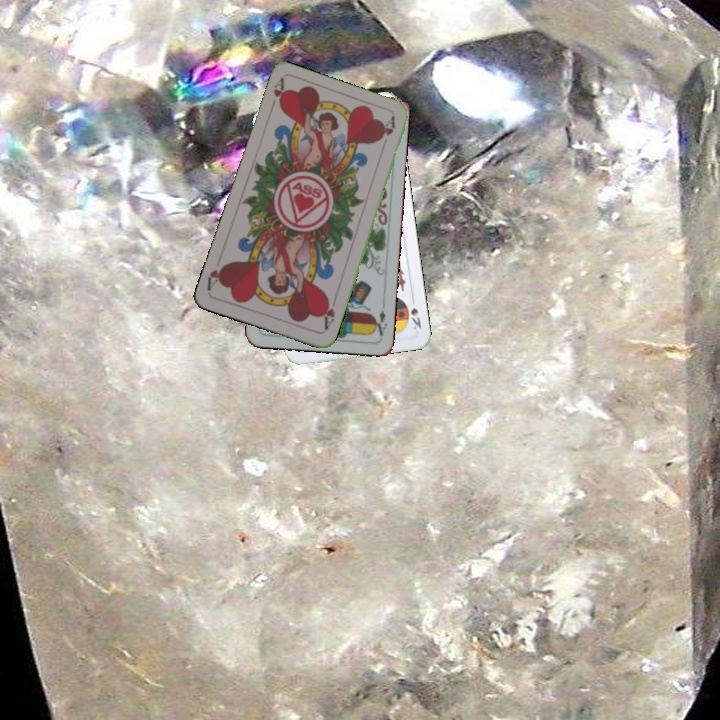EA: (369, 299, 390, 339)
HA: (265, 75, 289, 115), (318, 294, 338, 333)
SK: (407, 304, 424, 332)
